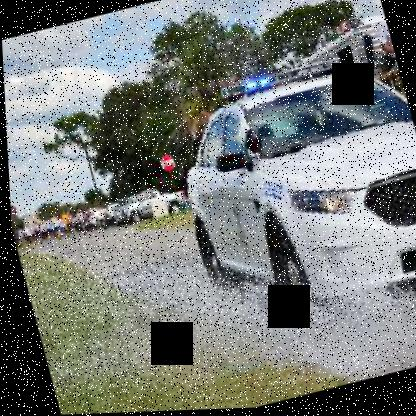emergency: (138, 32, 415, 350)
